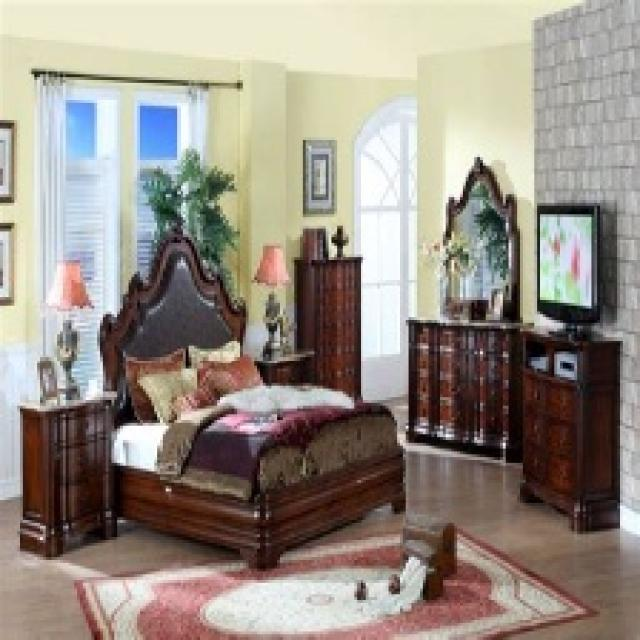Bed: (97, 220, 403, 569)
cabiner: (34, 399, 111, 547)
cabinet: (526, 320, 620, 534)
lamp: (45, 264, 93, 404), (253, 247, 298, 358)
